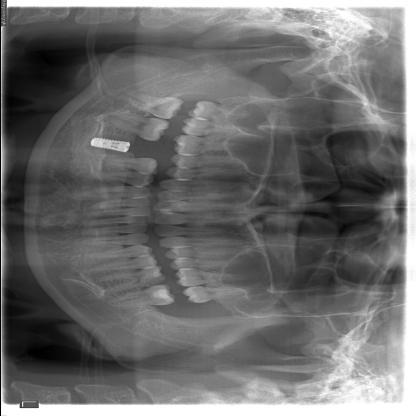ITI: (82, 136, 132, 153)
